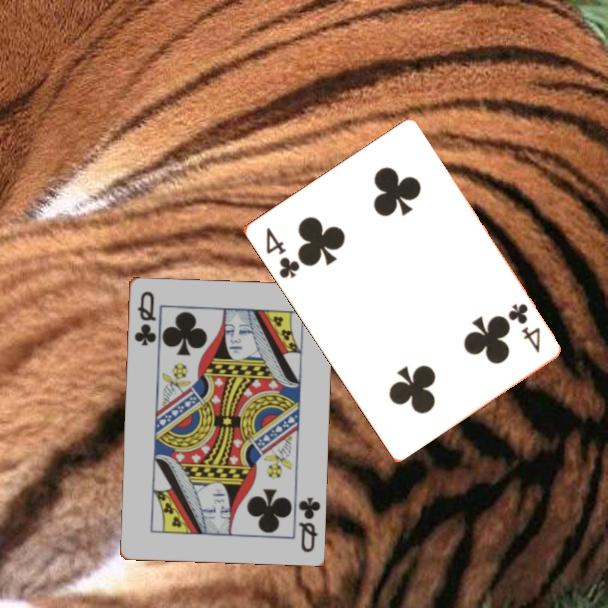c04: (262, 224, 302, 282), (504, 300, 543, 356)
c12: (130, 287, 159, 348), (294, 494, 323, 555)
